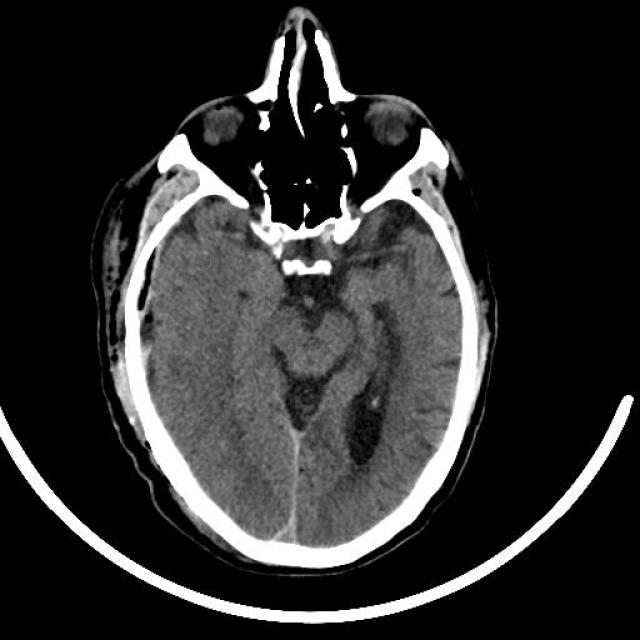Subdural: (242, 402, 328, 558)
